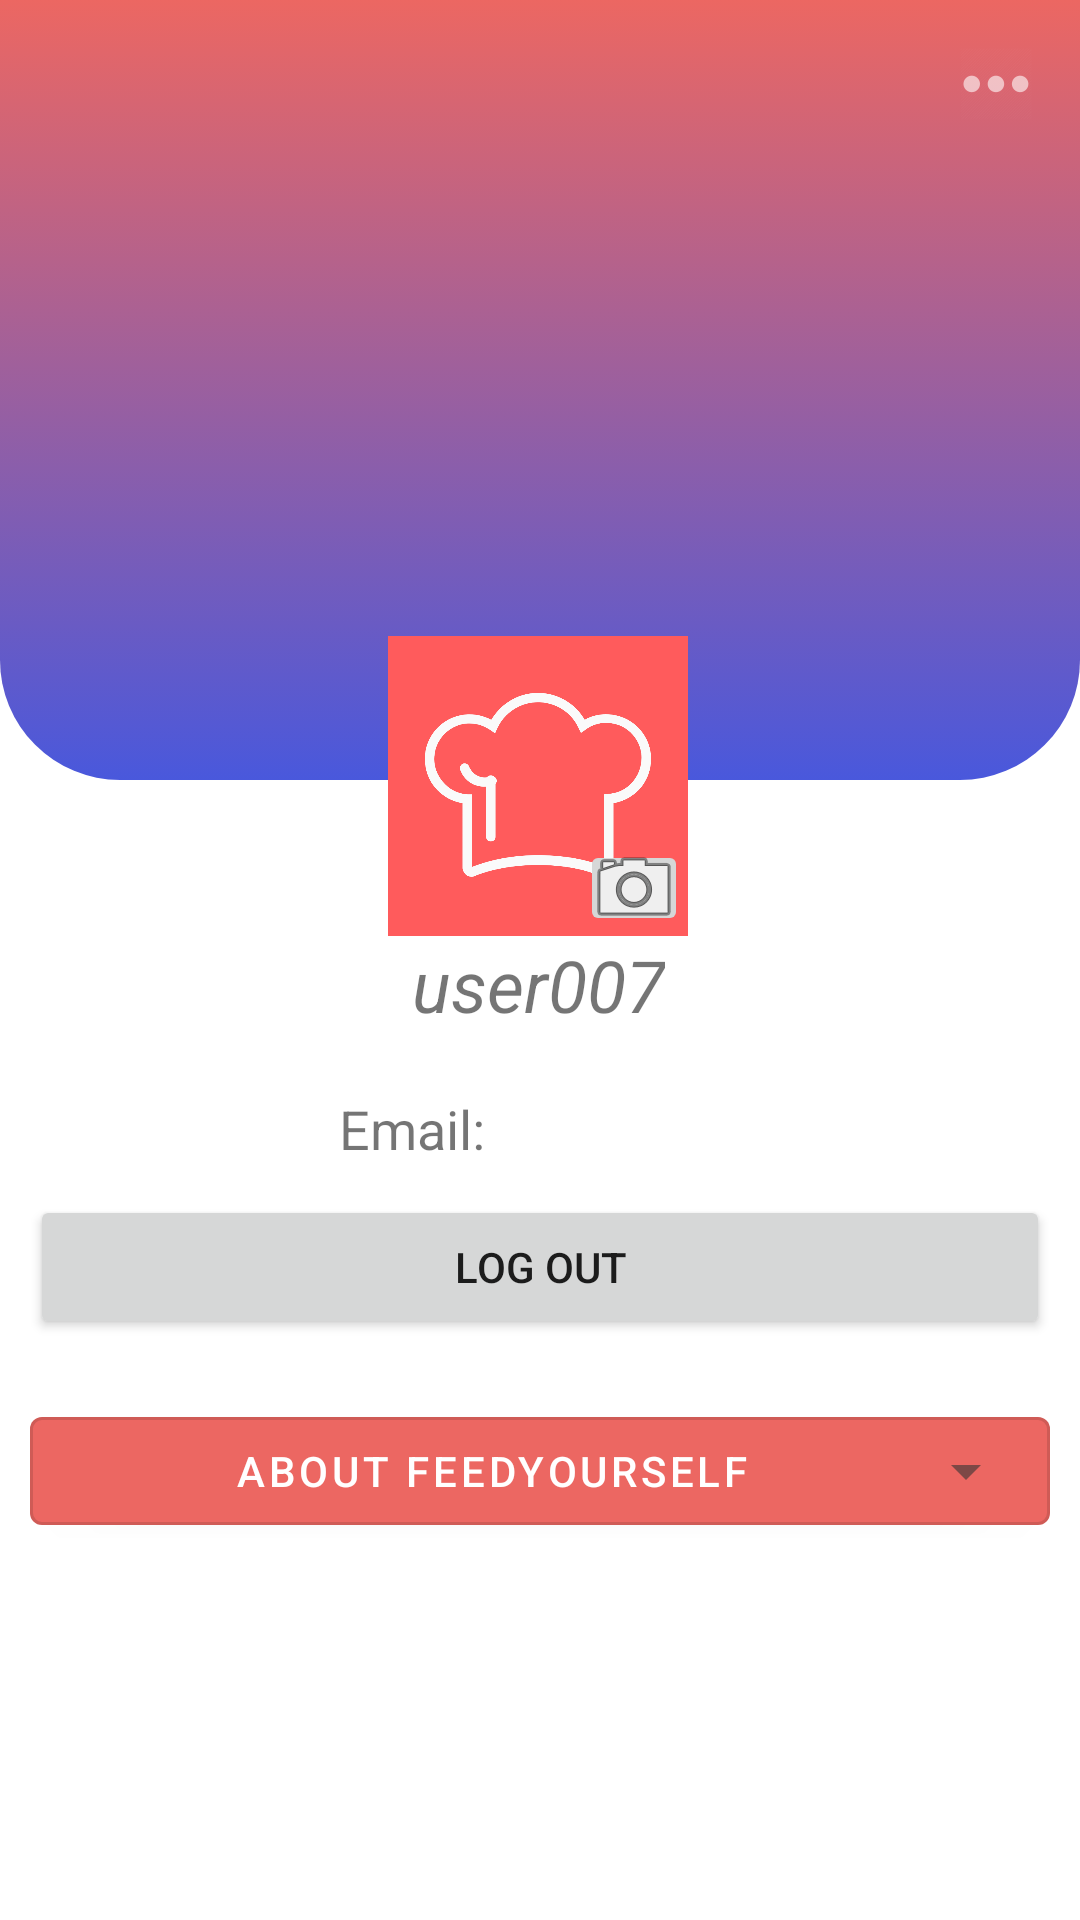

Icon click points for this 1080px x 1920px phone screenshot, format (x=x, y=y):
camera: (x=628, y=879)
dot menu: (x=996, y=83)
